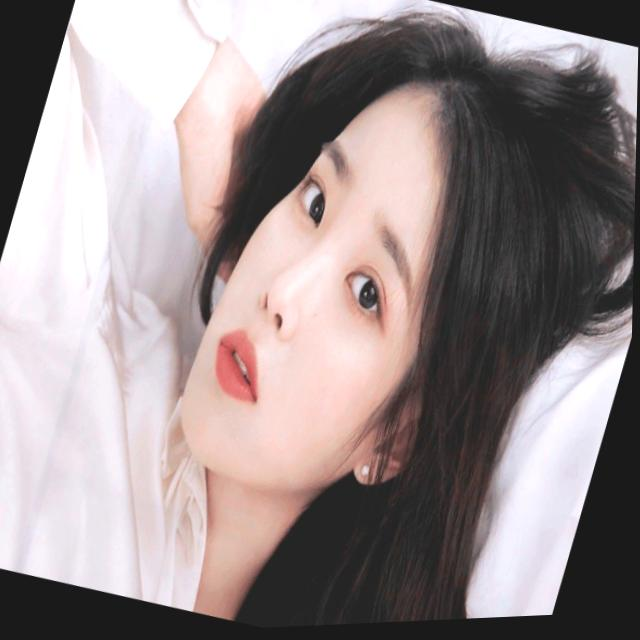face: (161, 34, 489, 522)
